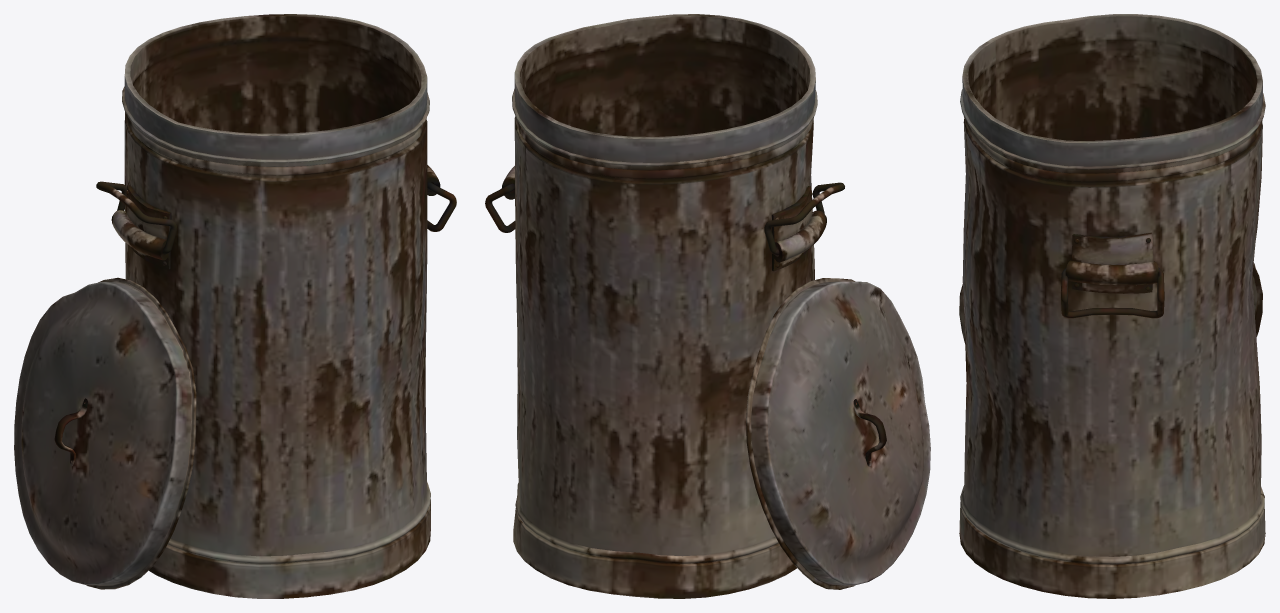
Rendered from lixeira_metal.glb.
The picture shows the model from 3 angles, left to right: view 1: azimuth 30°, elevation 25°; view 2: azimuth 150°, elevation 25°; view 3: azimuth 270°, elevation 25°; orthographic projection.
Visible parts, largest first — view 1: metal_trash_can_rust, metal_trash_can_rust_lid, metal_trash_can_rust_handle_left, metal_trash_can_rust_handle_right; view 2: metal_trash_can_rust, metal_trash_can_rust_lid, metal_trash_can_rust_handle_left, metal_trash_can_rust_handle_right; view 3: metal_trash_can_rust, metal_trash_can_rust_handle_right, metal_trash_can_rust_lid.
Boxes of the visible parts, x1,y1,x2,y2 form: metal_trash_can_rust: (111,14,440,598); metal_trash_can_rust_lid: (14,277,196,589); metal_trash_can_rust_handle_left: (96,181,177,254); metal_trash_can_rust_handle_right: (427,182,456,231); metal_trash_can_rust: (501,14,826,598); metal_trash_can_rust_lid: (746,278,930,589); metal_trash_can_rust_handle_left: (764,182,844,255); metal_trash_can_rust_handle_right: (485,183,515,232); metal_trash_can_rust: (959,14,1265,598); metal_trash_can_rust_handle_right: (1061,267,1164,318); metal_trash_can_rust_lid: (959,262,1262,343).
Bounding box in the file's own units: 0.7733 × 0.9062 × 0.549.
1 material, 1 textured.
